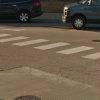Crosswalk: (4, 26, 100, 72)
